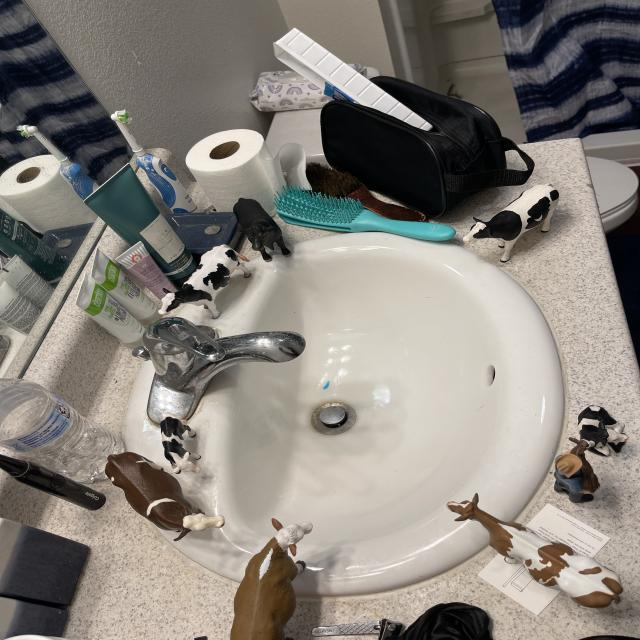cow: (434, 483, 632, 625), (92, 438, 229, 558), (456, 176, 576, 275), (226, 511, 313, 640), (155, 233, 257, 343), (226, 189, 295, 270), (567, 399, 633, 462), (158, 413, 203, 478), (566, 433, 601, 496)
person: (553, 452, 583, 495)
